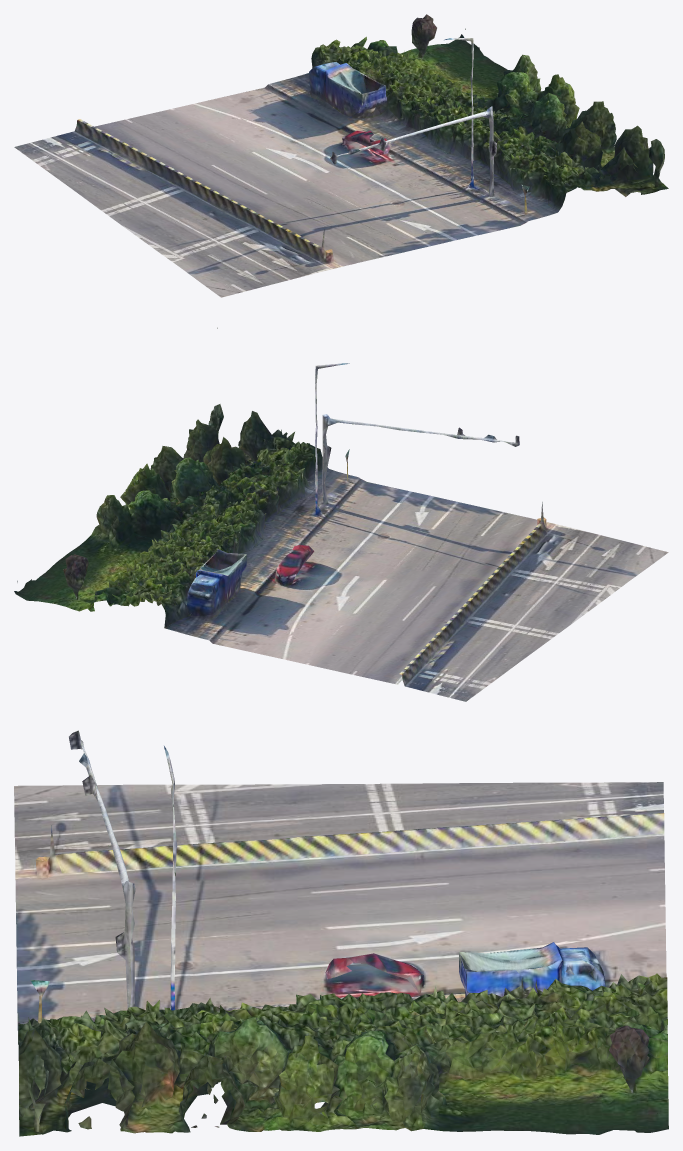
The model's file is Tile_+006_+007_L20_00010t3.glb.
3 views of the same model, one above another, from view 1: azimuth 30°, elevation 25°; view 2: azimuth 150°, elevation 25°; view 3: azimuth 270°, elevation 25° (orthographic). The views are drawn at different scales.
Parts seen in each view (by area): view 1: rtc; view 2: rtc; view 3: rtc.
Boxes of the visible parts, bbox=[...] form: rtc: bbox=[14, 14, 668, 297]; rtc: bbox=[14, 327, 668, 701]; rtc: bbox=[14, 730, 668, 1136].
Size of the model in its own units: 35.51 by 12.09 by 28.13.
1 material, 1 textured.
